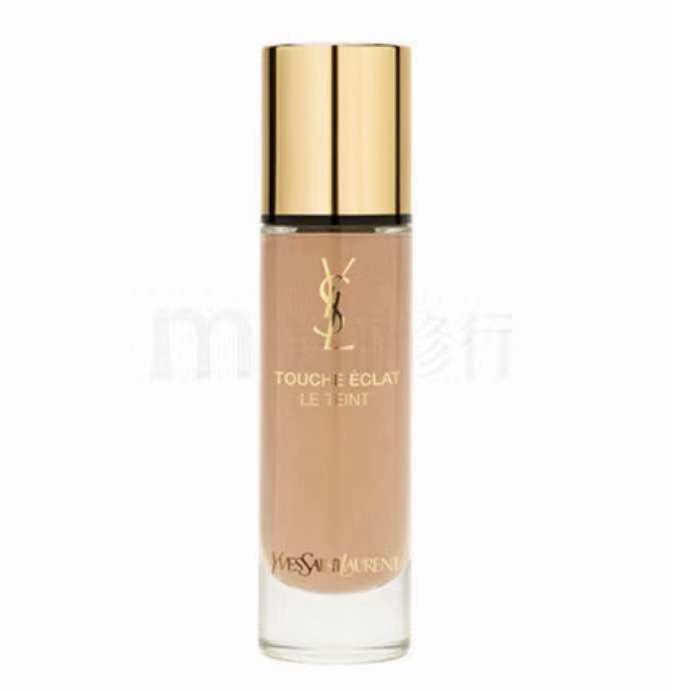cosmetic: (258, 40, 419, 662)
